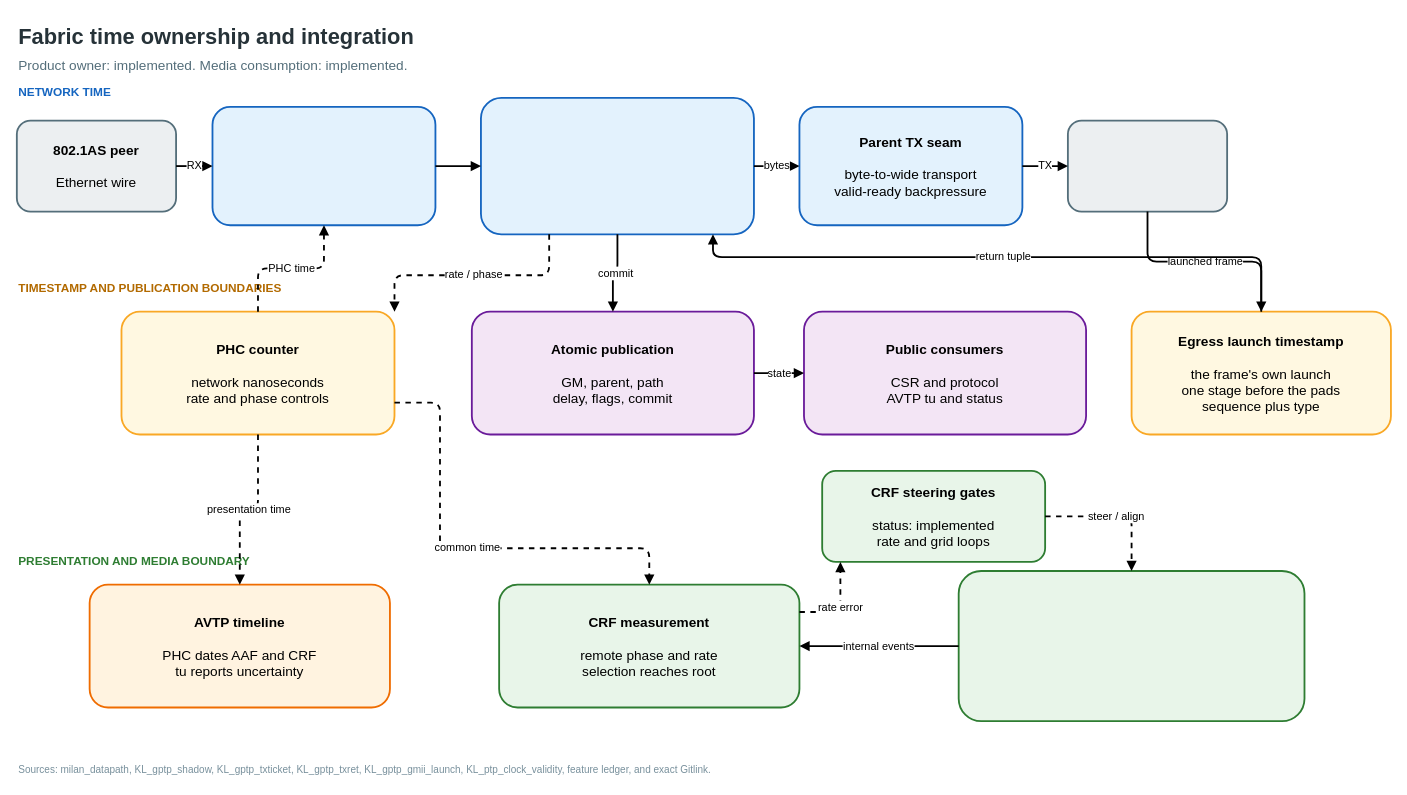
The diagram is 1407 pixels wide and 795 high, and some of its shapes have lost their labels. Here are the shapes that lost their labels. From the top down, the box of each, then its label:
(211, 106, 436, 226): Parent RX seam accepted MAC beats first-beat PHC time
(480, 96, 754, 235): Fabric gPTP engine pin 3ce71b768a2f protocol, timers, servo
(1067, 119, 1228, 212): MAC boundary actual TX acceptance
(957, 570, 1305, 722): Media clock lineage INTERNAL: free-run CRF: steered and aligned
